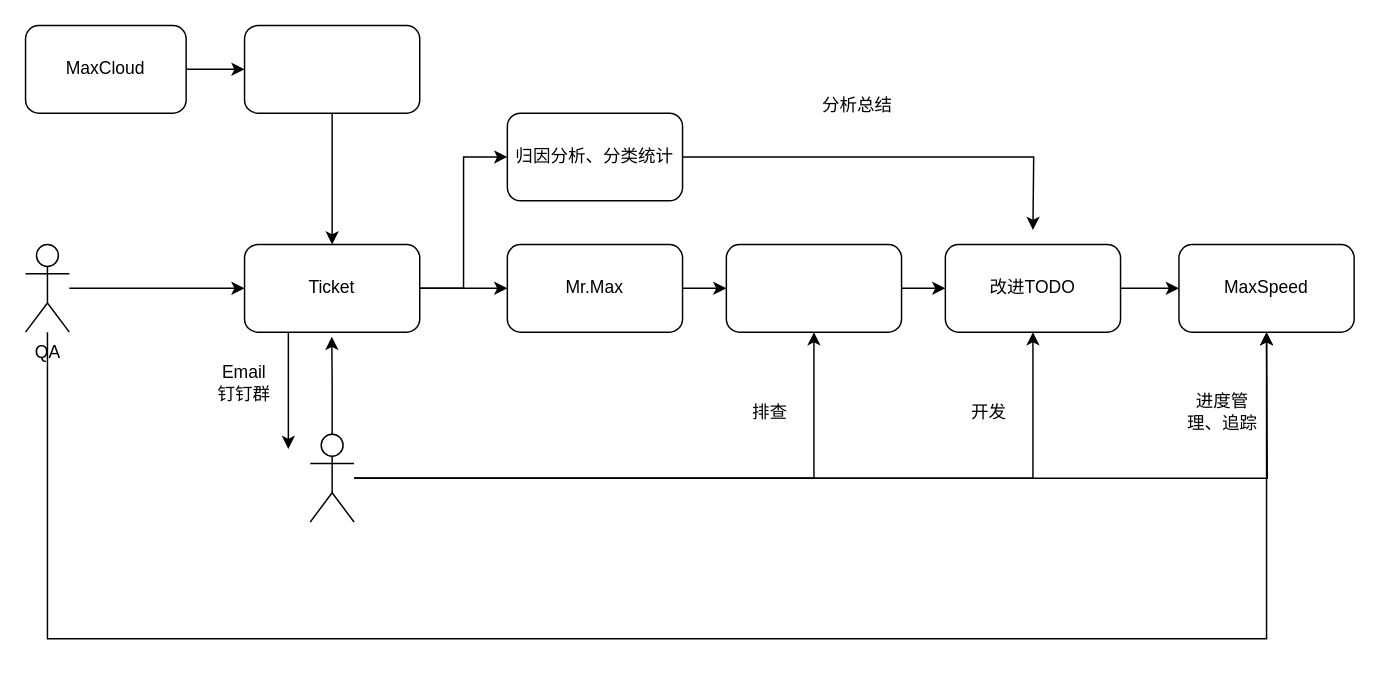
This 1380x676 diagram has some shape labels left out. Each missing label, with the centre of its shape:
Bundle: (331,68)
RD: (331,477)
问题分析、排查建议: (813,287)
